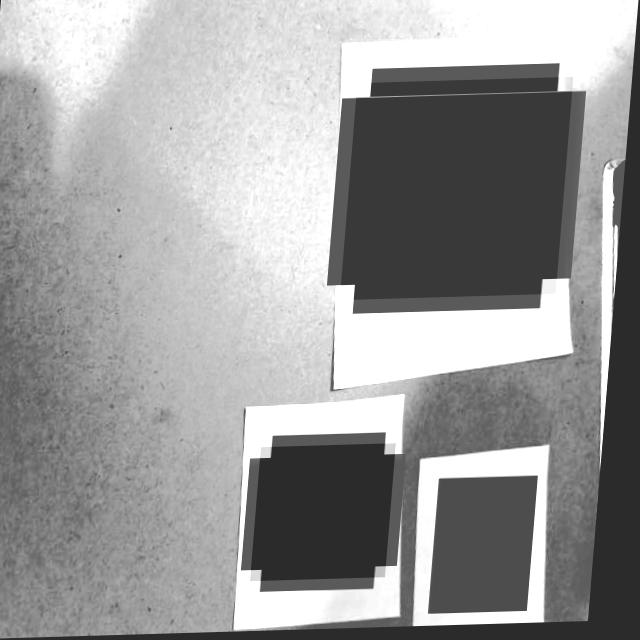qr_code: (344, 81, 574, 303), (259, 446, 403, 583), (438, 480, 545, 617)
